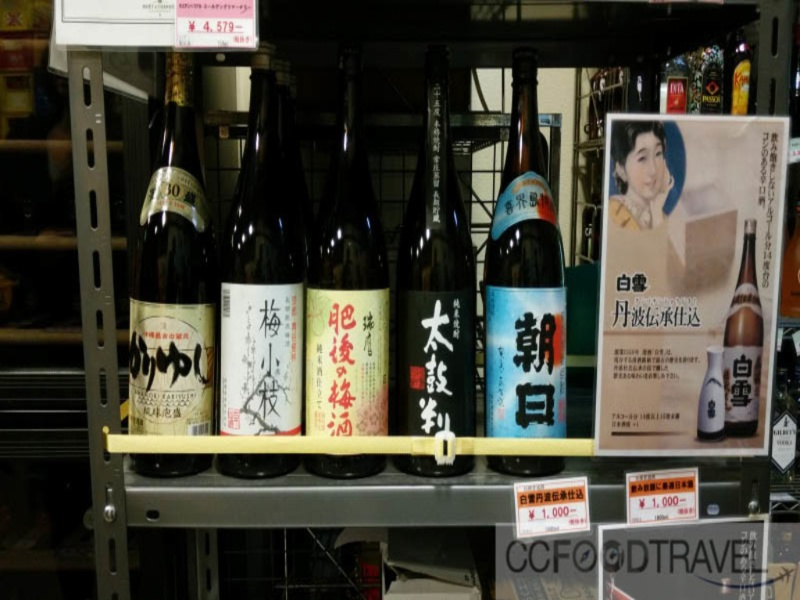wine: (105, 28, 798, 491)
